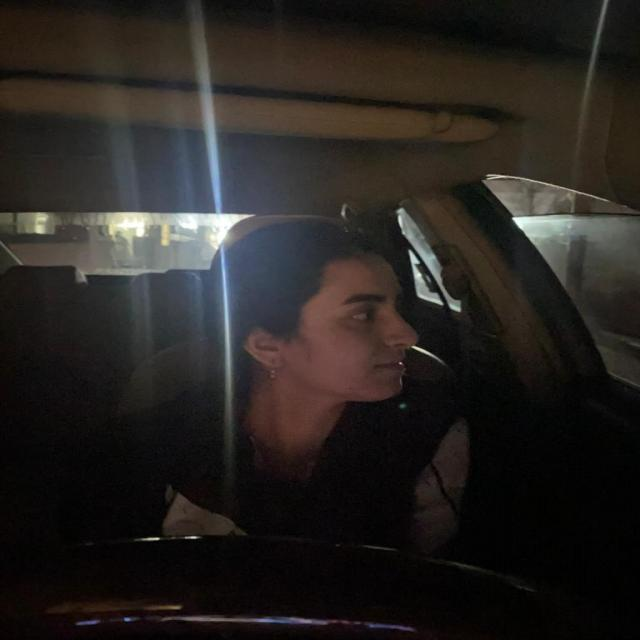LeftRight: (201, 222, 444, 419)
